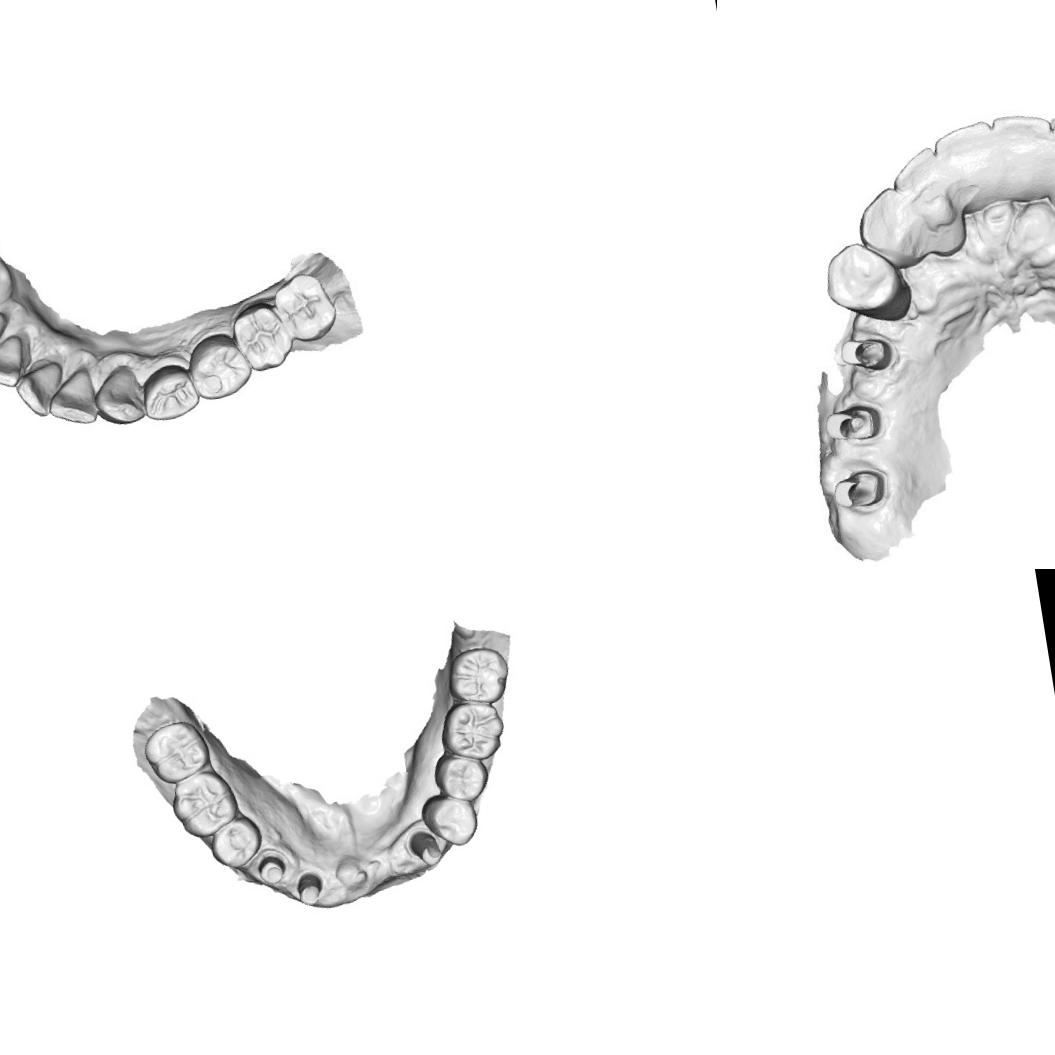abutment: (834, 324, 898, 378), (830, 458, 888, 512), (822, 396, 882, 448), (406, 825, 449, 870), (292, 868, 330, 910), (253, 851, 290, 890)
canine: (848, 181, 924, 268), (418, 788, 482, 852), (89, 363, 150, 430)
incisor: (922, 111, 1003, 182), (888, 144, 950, 218), (987, 104, 1055, 170), (10, 357, 68, 420), (45, 368, 102, 424), (0, 332, 31, 394), (0, 307, 17, 369)
molar: (164, 764, 244, 845), (138, 714, 214, 788), (268, 267, 340, 345), (228, 297, 297, 378), (441, 642, 515, 712), (435, 697, 510, 766)
premolar: (820, 233, 916, 326), (183, 330, 254, 404), (136, 358, 202, 426), (207, 814, 268, 874), (430, 749, 492, 807)
